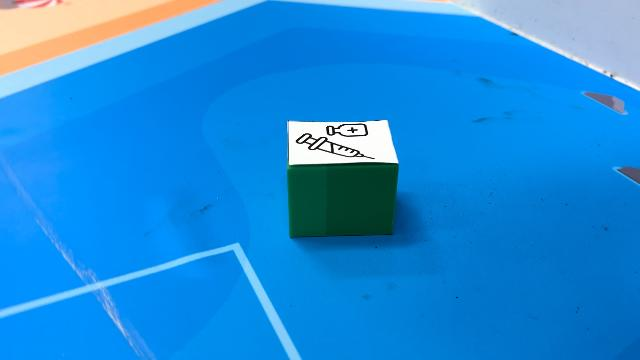syringe: (286, 119, 399, 237)
